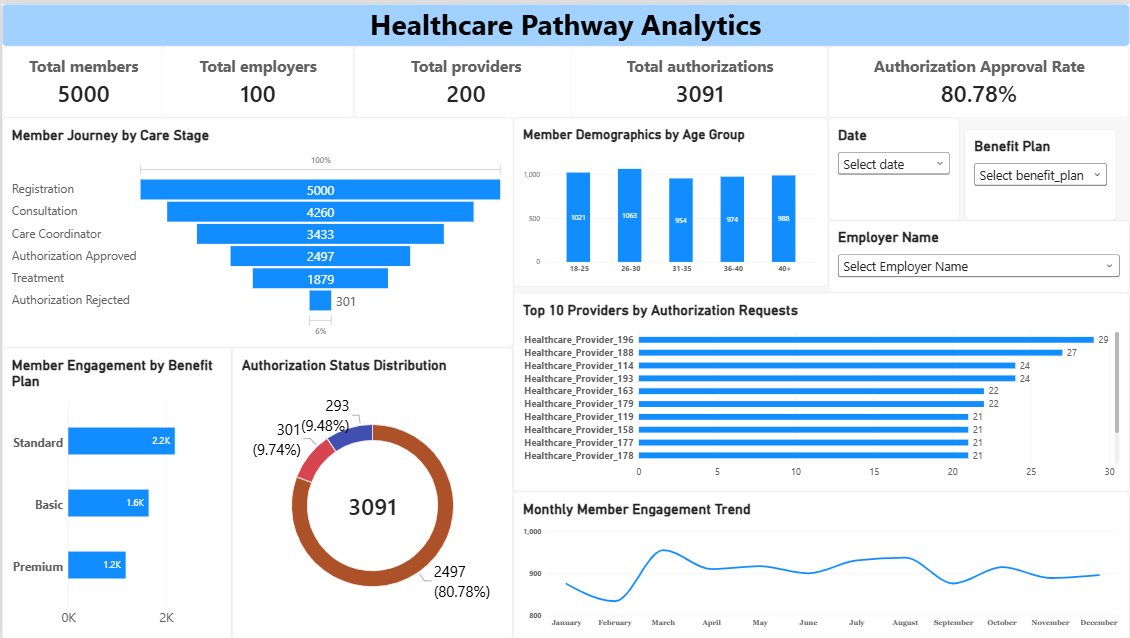

The page's visual inventory and layout, read from the dashboard file:
{"tool":"powerbi","page":{"name":"Page 1","canvas":[1920,1080],"ordinal":0},"visuals":[{"type":"textbox","box":[0,0,1919.1,72.3],"z":1},{"type":"cardVisual","fields":{"Data":["CountNonNull(healthcare_analytics members_staging.member_id)"]},"box":[0,72.3,276.6,121.3],"z":2},{"type":"cardVisual","fields":{"Data":["CountNonNull(healthcare_analytics employers_staging.employer_id)"]},"box":[270.2,72.3,329.8,121.3],"z":3},{"type":"cardVisual","fields":{"Data":["CountNonNull(healthcare_analytics providers_staging.provider_id)"]},"box":[600,72.3,378.7,121.3],"z":4},{"type":"cardVisual","fields":{"Data":["CountNonNull(healthcare_analytics authorizations_staging.authorization_id)"]},"box":[968.1,72.3,438.3,121.3],"z":5},{"type":"cardVisual","fields":{"Data":["healthcare_analytics authorizations_staging.Authorization Approval Rate"]},"box":[1406.4,72.3,512.8,121.3],"z":6},{"type":"funnel","title":"Member Journey by Care Stage","fields":{"Category":["healthcare_analytics member_events_staging.event_type"],"Y":["Count(healthcare_analytics member_events_staging.member_id)"]},"box":[0,193.6,870.2,391.5],"z":7},{"type":"donutChart","title":"Authorization Status Distribution","fields":{"Category":["healthcare_analytics authorizations_staging.authorization_status"],"Y":["CountNonNull(healthcare_analytics authorizations_staging.authorization_id)"]},"box":[391.5,585.1,478.7,495.7],"z":8},{"type":"lineChart","title":"Monthly Member Engagement Trend","fields":{"Category":["healthcare_analytics member_events_staging.event_date.Variation.Date Hierarchy.Month","healthcare_analytics member_events_staging.event_date.Variation.Date Hierarchy.Day"],"Y":["Count(healthcare_analytics member_events_staging.member_id)"]},"box":[870.2,829.8,1048.9,251.1],"z":9},{"type":"clusteredBarChart","title":"Member Engagement by Benefit Plan","fields":{"Category":["healthcare_analytics employers_staging.benefit_plan"],"Y":["CountNonNull(healthcare_analytics members_staging.member_id)"]},"box":[0,585.1,391.5,495.7],"z":10},{"type":"clusteredBarChart","title":"Top 10 Providers by Authorization Requests","fields":{"Category":["healthcare_analytics providers_staging.provider_name"],"Y":["CountNonNull(healthcare_analytics authorizations_staging.authorization_id)"]},"box":[870.2,491.5,1048.9,338.3],"z":11},{"type":"clusteredColumnChart","title":"Member Demographics by Age Group","fields":{"Category":["healthcare_analytics members_staging.age_group"],"Y":["CountNonNull(healthcare_analytics members_staging.member_id)"]},"box":[870.2,193.6,536.2,287.2],"z":12},{"type":"listSlicer","title":"Benefit Plan","fields":{"Values":["healthcare_analytics employers_staging.benefit_plan"]},"box":[1638.3,212.8,259.6,155.3],"z":13},{"type":"listSlicer","title":"Employer Name","fields":{"Values":["healthcare_analytics employers_staging.employer_name"]},"box":[1406.4,368.1,512.8,123.4],"z":14},{"type":"listSlicer","title":"Date","fields":{"Values":["healthcare_analytics member_events_staging.event_date.Variation.Date Hierarchy.Year","healthcare_analytics member_events_staging.event_date.Variation.Date Hierarchy.Quarter","healthcare_analytics member_events_staging.event_date.Variation.Date Hierarchy.Month","healthcare_analytics member_events_staging.event_date.Variation.Date Hierarchy.Day"]},"box":[1406.4,193.6,223.4,174.5],"z":15}]}

Visuals, with their boxes in screenshot pixels (x1, y1, x2, y2), scaled from the page's 1920x1080 canvas onto the 1130x638 screenshot:
textbox: 0:0:1129:43
cardVisual - CountNonNull(healthcare_analytics members_staging.member_id): 0:43:163:114
cardVisual - CountNonNull(healthcare_analytics employers_staging.employer_id): 159:43:353:114
cardVisual - CountNonNull(healthcare_analytics providers_staging.provider_id): 353:43:576:114
cardVisual - CountNonNull(healthcare_analytics authorizations_staging.authorization_id): 570:43:828:114
cardVisual - healthcare_analytics authorizations_staging.Authorization Approval Rate: 828:43:1129:114
"Member Journey by Care Stage" funnel: 0:114:512:346
"Authorization Status Distribution" donutChart: 230:346:512:637
"Monthly Member Engagement Trend" lineChart: 512:490:1129:637
"Member Engagement by Benefit Plan" clusteredBarChart: 0:346:230:637
"Top 10 Providers by Authorization Requests" clusteredBarChart: 512:290:1129:490
"Member Demographics by Age Group" clusteredColumnChart: 512:114:828:284
"Benefit Plan" listSlicer: 964:126:1117:217
"Employer Name" listSlicer: 828:217:1129:290
"Date" listSlicer: 828:114:959:217
